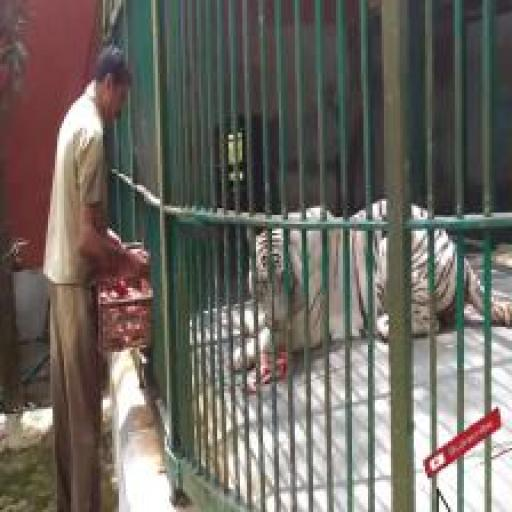Tiger: (233, 199, 512, 370)
